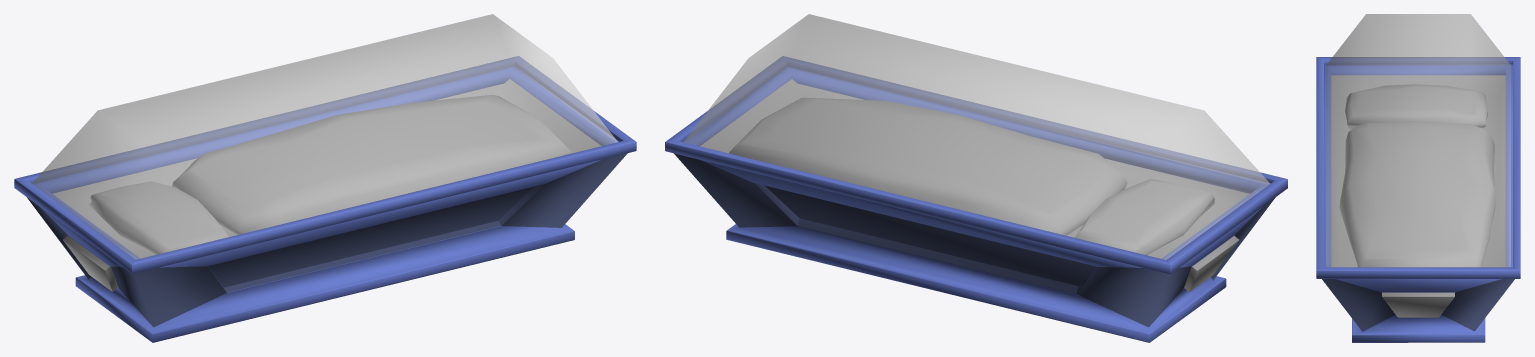
The model's file is DebrisBed.fbx.
The picture shows the model from 3 angles, left to right: view 1: azimuth 30°, elevation 25°; view 2: azimuth 150°, elevation 25°; view 3: azimuth 270°, elevation 25°; orthographic projection. The views are drawn at different scales.
Visible parts, largest first — view 1: Circle; view 2: Circle; view 3: Circle.
Part boxes in pixels (x1=…): Circle: x1=14, y1=14, x2=636, y2=342; Circle: x1=665, y1=14, x2=1287, y2=342; Circle: x1=1316, y1=14, x2=1520, y2=342.
Size of the model in its own units: 559 by 190 by 226.
